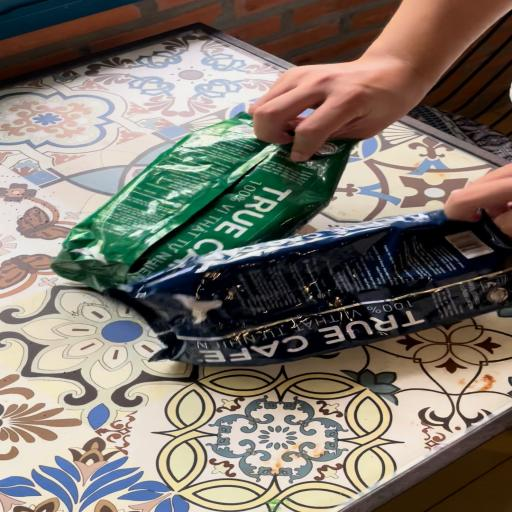cafe_hat: (106, 210, 512, 367)
cafe_xay: (53, 113, 356, 290)
